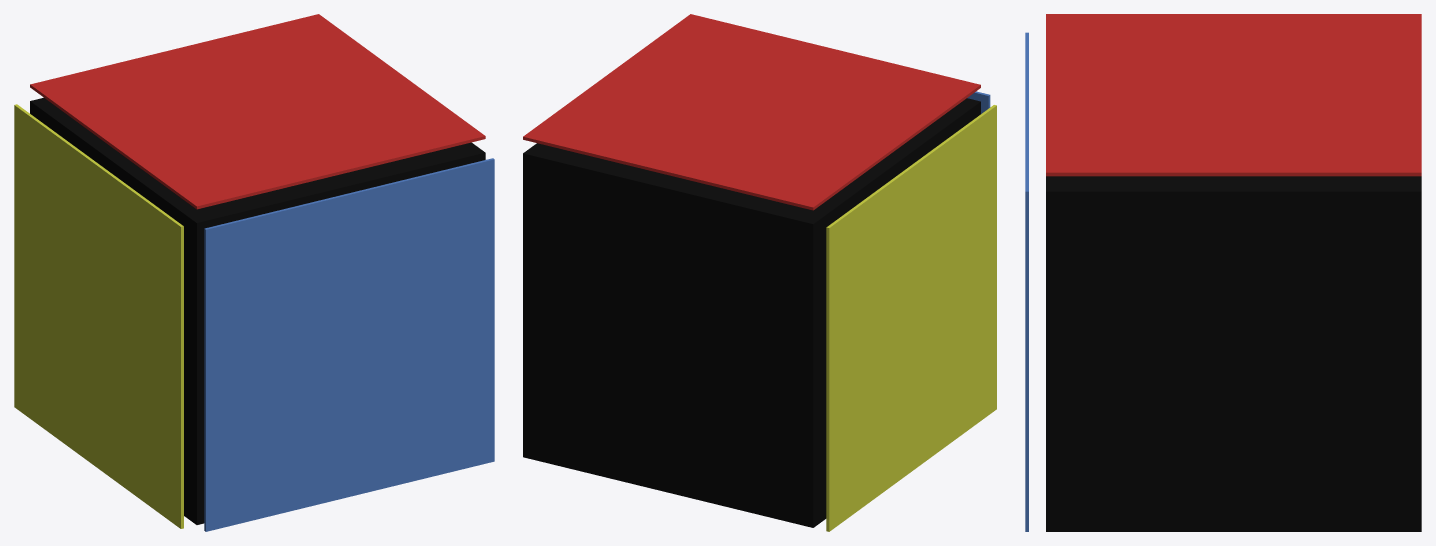
Rendered from yrb.glb.
The picture shows the model from 3 angles, left to right: view 1: azimuth 30°, elevation 25°; view 2: azimuth 150°, elevation 25°; view 3: azimuth 270°, elevation 25°; orthographic projection. The views are drawn at different scales.
Parts seen in each view (by area): view 1: blue-3, yellow-1, red-3, Cube; view 2: Cube, yellow-1, red-3; view 3: Cube, red-3, blue-3.
Boxes of the visible parts, x1,y1,x2,y2 form: blue-3: [204, 158, 494, 531]; yellow-1: [14, 104, 183, 528]; red-3: [30, 14, 485, 209]; Cube: [30, 97, 485, 524]; Cube: [523, 98, 980, 527]; yellow-1: [826, 105, 996, 531]; red-3: [523, 14, 980, 210]; Cube: [1046, 176, 1421, 531]; red-3: [1046, 14, 1421, 176]; blue-3: [1025, 32, 1028, 531].
Size of the model in its own units: 2.11 by 2.11 by 2.11.
